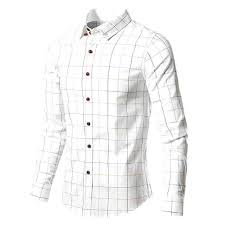squared: (31, 7, 190, 217)
